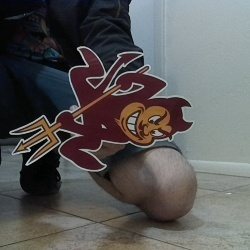sparky: (8, 45, 194, 171)
